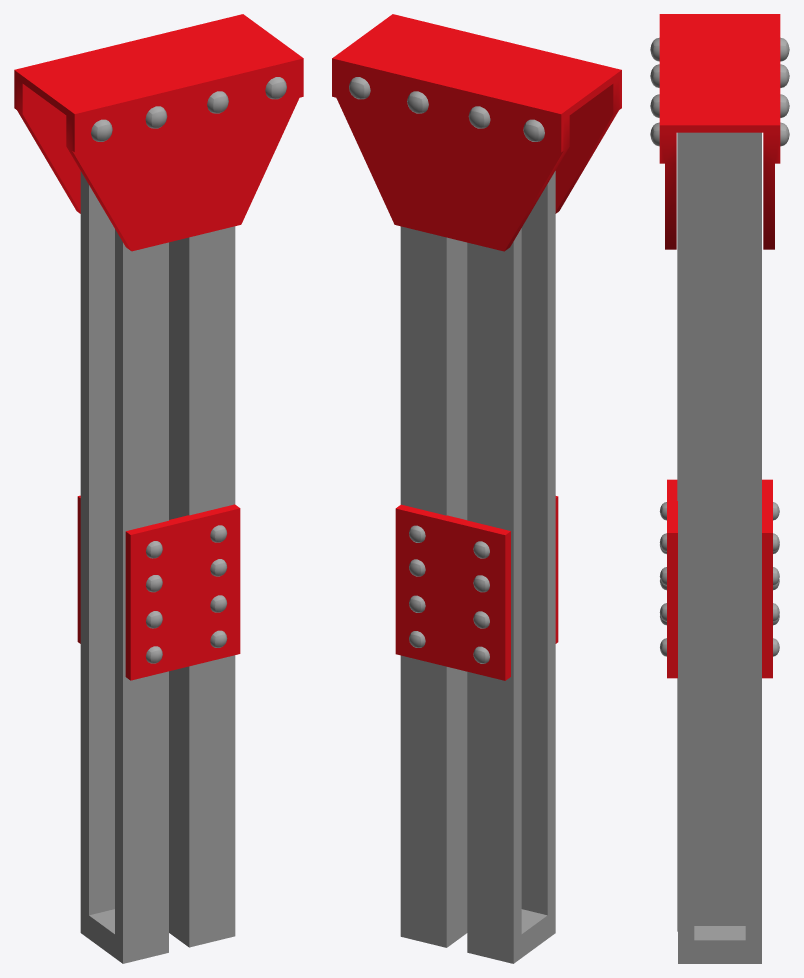
Rendered from Columna.FBX.
3 views of the same model, side by side, from view 1: azimuth 30°, elevation 25°; view 2: azimuth 150°, elevation 25°; view 3: azimuth 270°, elevation 25° (orthographic).
Visible parts, largest first — view 1: G_Columna; view 2: G_Columna; view 3: G_Columna.
Boxes of the visible parts, x1,y1,x2,y2 form: G_Columna: (14,14,303,963); G_Columna: (332,14,621,963); G_Columna: (650,14,789,963).
Size of the model in its own units: 13.01 by 47.25 by 6.89.
